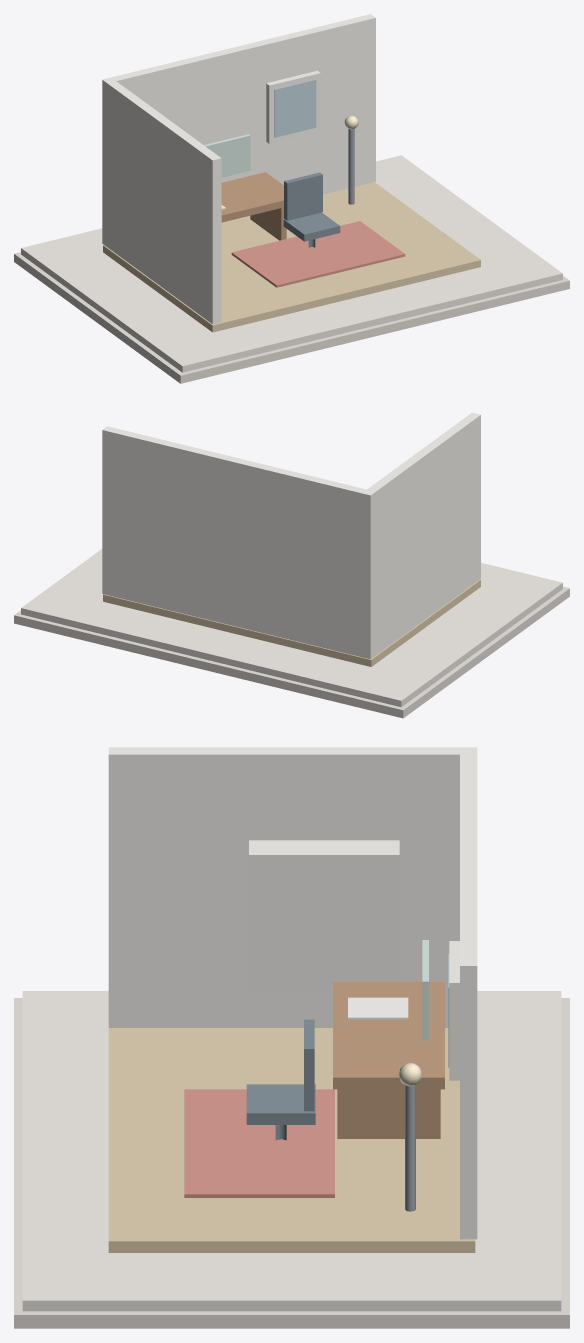
Rendered from escritorio.glb.
The picture shows the model from 3 angles, top to bottom: view 1: azimuth 30°, elevation 25°; view 2: azimuth 150°, elevation 25°; view 3: azimuth 270°, elevation 25°; orthographic projection. The views are drawn at different scales.
Bounding box in the file's own units: 3.48 × 1.61 × 2.58.
